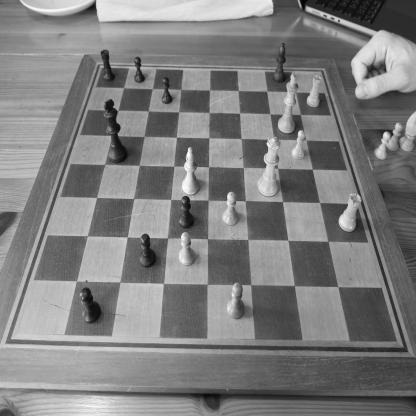black-bishop: (272, 42, 286, 84)
black-king: (104, 98, 128, 164)
black-pawn: (80, 286, 102, 324), (139, 233, 156, 269), (178, 195, 194, 229), (161, 75, 173, 105), (133, 56, 146, 83)
black-rook: (101, 48, 116, 82)
white-bishop: (182, 146, 200, 196)
white-king: (278, 72, 299, 134)
white-pawn: (226, 282, 245, 320), (222, 191, 239, 226), (179, 231, 195, 267), (374, 131, 391, 161), (386, 122, 403, 152), (291, 130, 306, 160)
white-queen: (257, 136, 282, 197)
white-rook: (338, 192, 362, 233), (306, 74, 323, 108)
